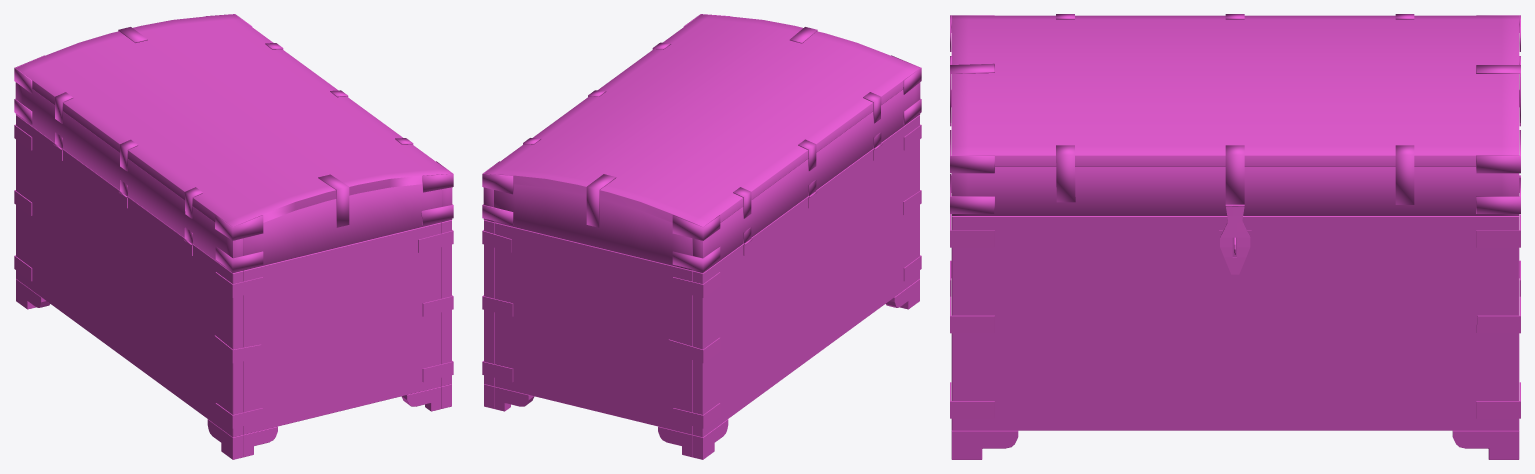
Rendered from Coffer.fbx.
The picture shows the model from 3 angles, left to right: view 1: azimuth 30°, elevation 25°; view 2: azimuth 150°, elevation 25°; view 3: azimuth 270°, elevation 25°; orthographic projection. The views are drawn at different scales.
Parts seen in each view (by area): view 1: Coffe_2; view 2: Coffe_2; view 3: Coffe_2.
Part boxes in pixels (left/top/right/bottom): Coffe_2: left=14, top=14, right=453, bottom=459; Coffe_2: left=482, top=14, right=921, bottom=459; Coffe_2: left=950, top=14, right=1520, bottom=459.
Size of the model in its own units: 0.7318 by 0.7494 by 1.21.
